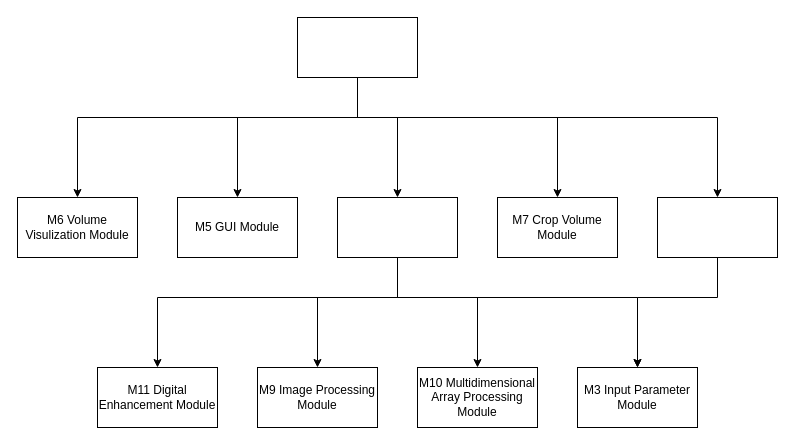
Some shapes in this 795 by 445 pixel diagram are drawn without their labels. Here are the shapes that lost their labels. From the top down, the centre of each, then its label:
At point 357,47: "M4 Control Module".
At point 397,227: "M8 Aorta Segmentation Module".
At point 717,227: "M2 Input Format Module".
